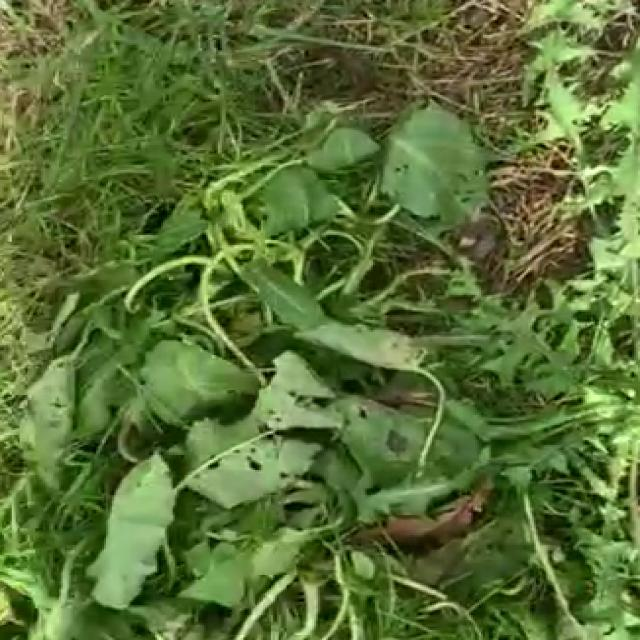organic waste: (18, 113, 577, 565)
